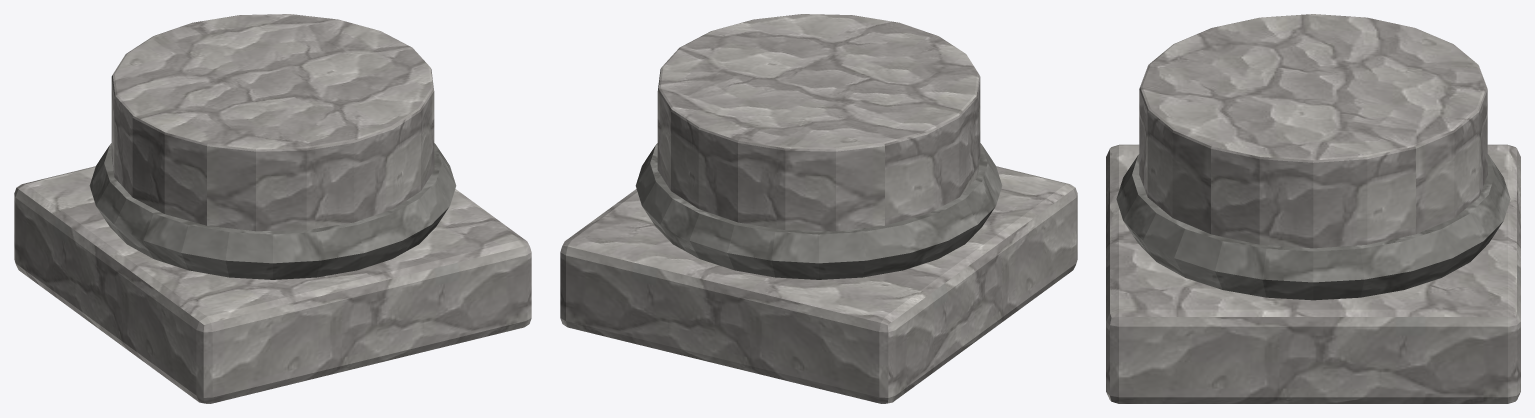
File: column_base__cut_marble.glb
3 views of the same model, side by side, from view 1: azimuth 30°, elevation 25°; view 2: azimuth 150°, elevation 25°; view 3: azimuth 270°, elevation 25° (orthographic). The views are drawn at different scales.
Parts seen in each view (by area): view 1: model; view 2: model; view 3: model.
Boxes of the visible parts, x1,y1,x2,y2 form: model: (14, 14, 531, 403); model: (560, 14, 1077, 403); model: (1106, 14, 1520, 403).
Size of the model in its own units: 0.8 by 0.5 by 0.8.
2 materials, 2 textured.
